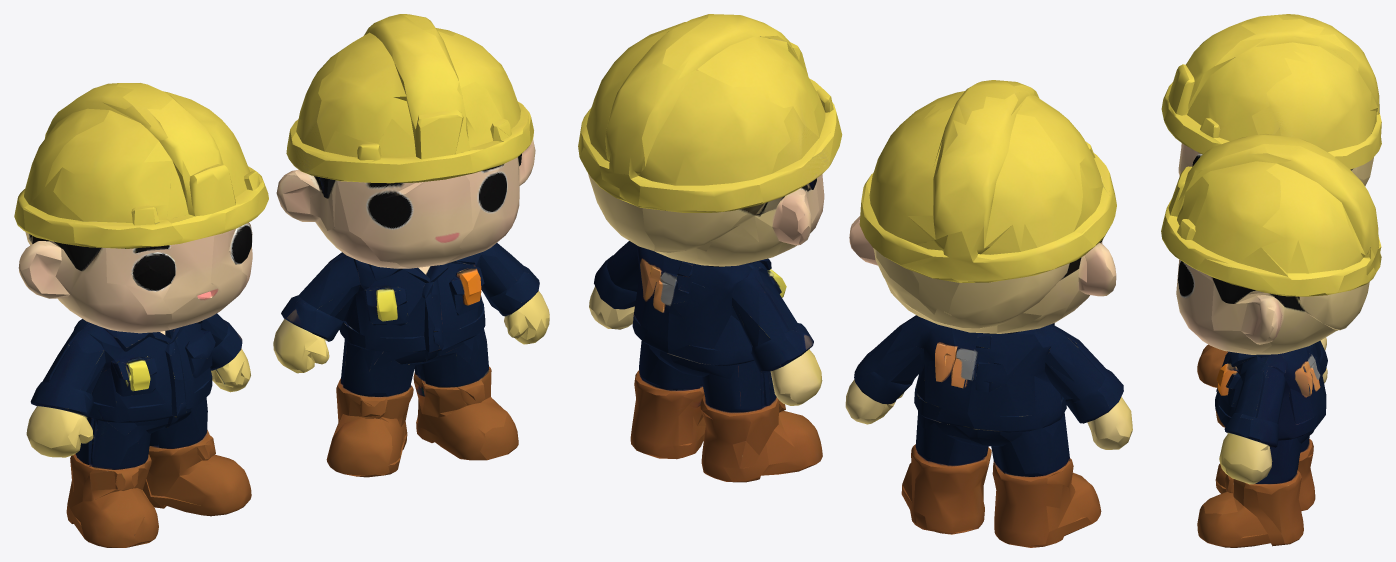
File: gloves_work_01.glb
3 views of the same model, side by side, from view 1: azimuth 30°, elevation 25°; view 2: azimuth 150°, elevation 25°; view 3: azimuth 270°, elevation 25° (orthographic). The views are drawn at different scales.
Bounding box in the file's own units: 1.9 × 1.46 × 0.7764.
Materials: 1 (1 with a texture image).
